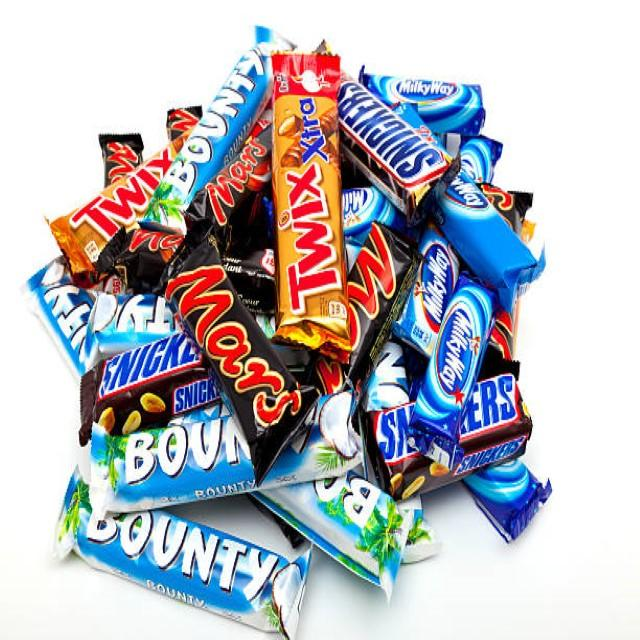mars_chocolate: (170, 238, 337, 475), (187, 113, 278, 258)
snickers_chocolate: (375, 370, 540, 488), (78, 333, 237, 440), (335, 72, 453, 215)
